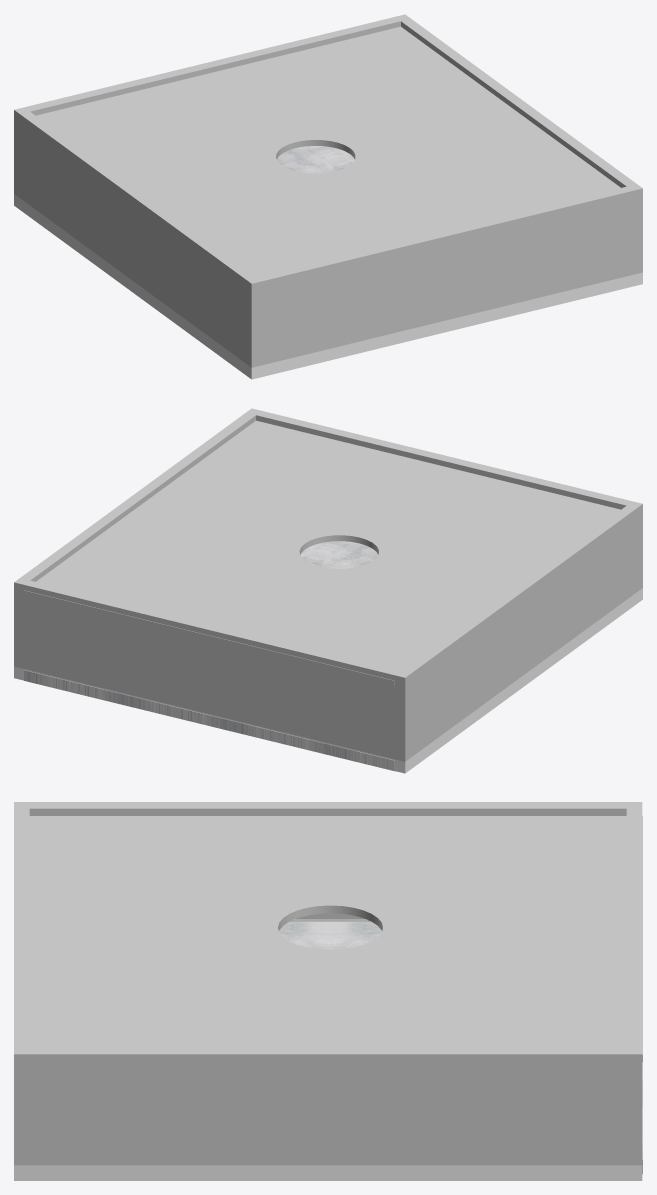
Rendered from 220118_가운데벽제거_02.gltf.
The picture shows the model from 3 angles, top to bottom: view 1: azimuth 30°, elevation 25°; view 2: azimuth 150°, elevation 25°; view 3: azimuth 270°, elevation 25°; orthographic projection. The views are drawn at different scales.
Parts seen in each view (by area): view 1: Rectangle001; view 2: Rectangle001; view 3: Rectangle001.
Part boxes in pixels (x1,y1,x2,y2): Rectangle001: [14, 14, 642, 379]; Rectangle001: [14, 408, 642, 773]; Rectangle001: [14, 802, 642, 1180].
Bounding box in the file's own units: 38 × 8.89 × 40.04.
5 materials, 2 textured.
